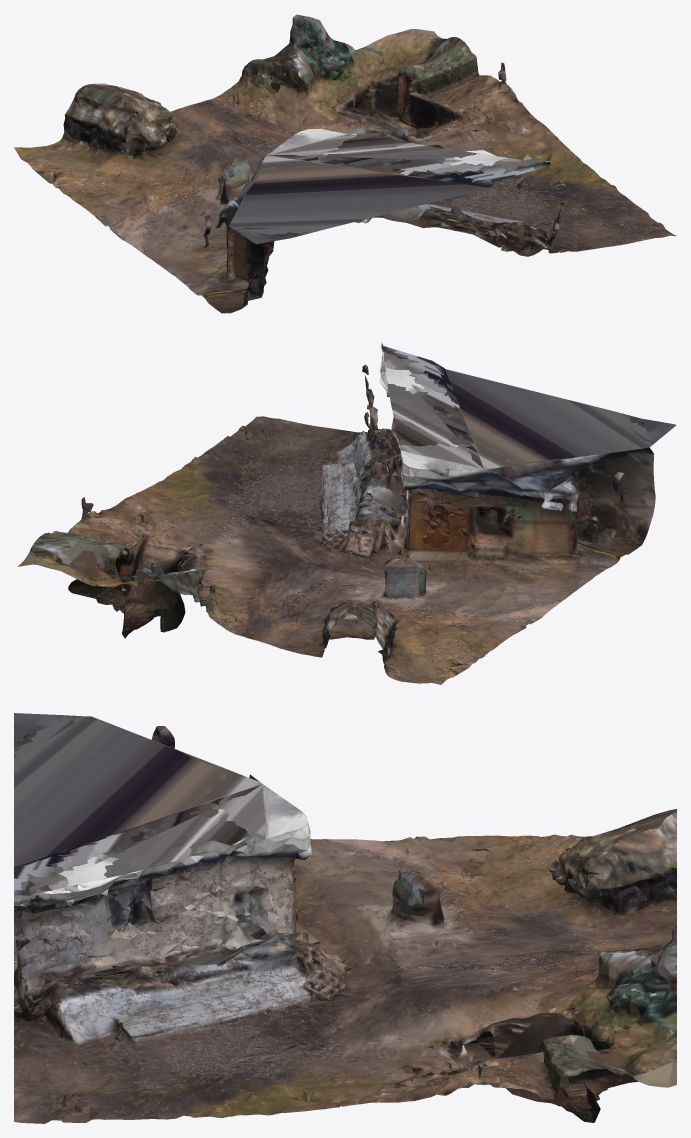
3 renders of one model, top to bottom at view 1: azimuth 30°, elevation 25°; view 2: azimuth 150°, elevation 25°; view 3: azimuth 270°, elevation 25°, orthographic. The views are drawn at different scales.
Size of the model in its own units: 20.89 by 6.11 by 20.89.
4 materials, 4 textured.
